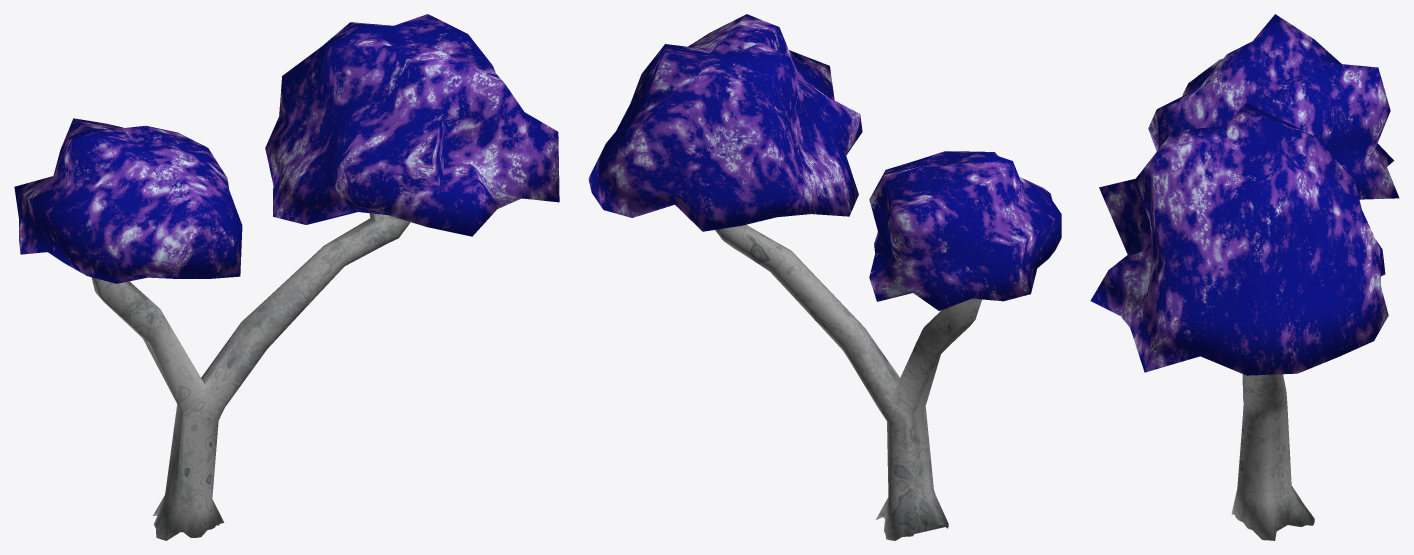
Rendered from Mushroom2.fbx.
The picture shows the model from 3 angles, left to right: view 1: azimuth 30°, elevation 25°; view 2: azimuth 150°, elevation 25°; view 3: azimuth 270°, elevation 25°; orthographic projection. The views are drawn at different scales.
Visible parts, largest first — view 1: Mushroom2; view 2: Mushroom2; view 3: Mushroom2.
Boxes of the visible parts, x1=… form: Mushroom2: x1=14, y1=14, x2=559, y2=540; Mushroom2: x1=588, y1=14, x2=1061, y2=540; Mushroom2: x1=1090, y1=14, x2=1399, y2=540.
Bounding box in the file's own units: 1201 × 1090 × 617.
